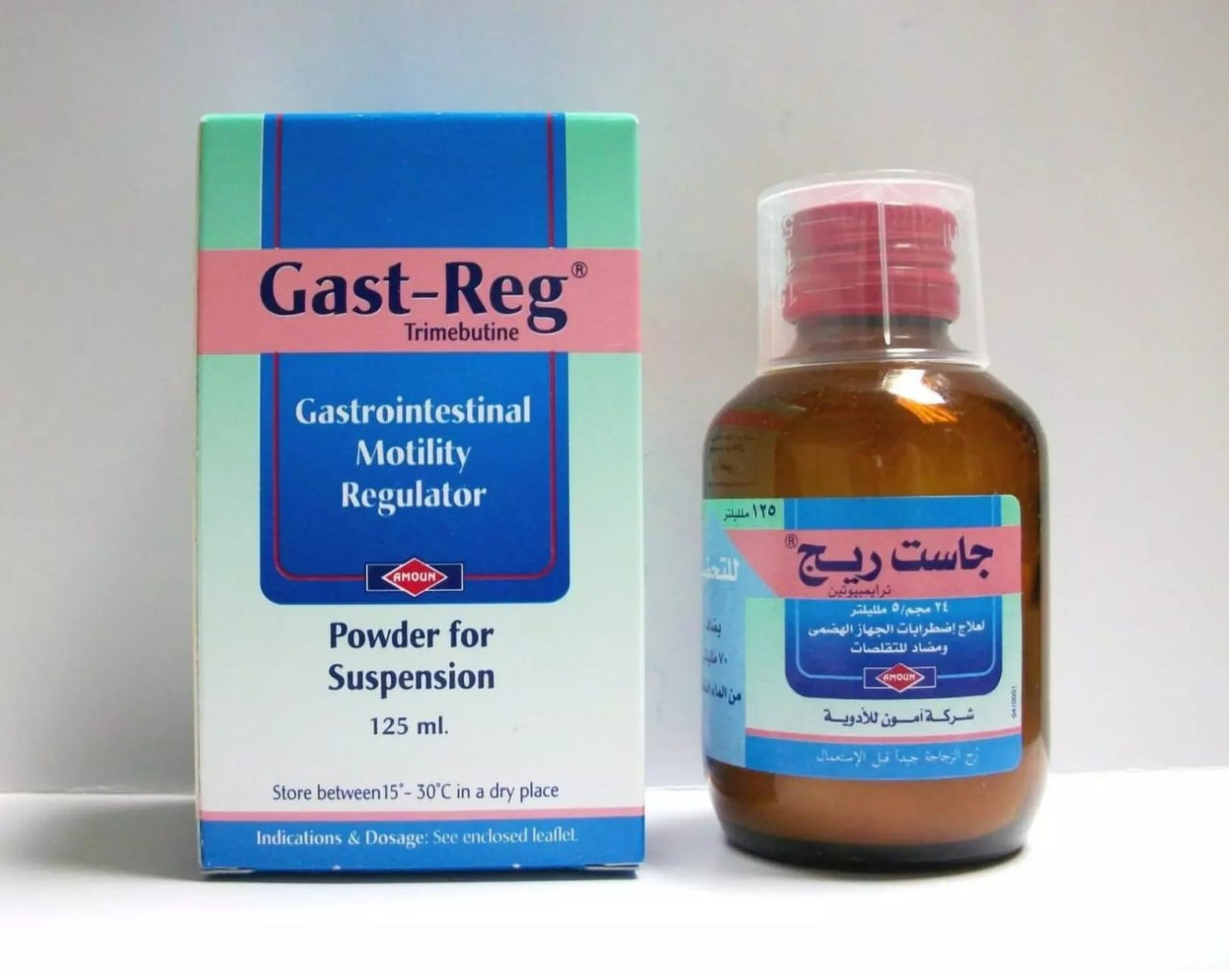Medicine: (180, 91, 663, 891), (689, 175, 1061, 881)
